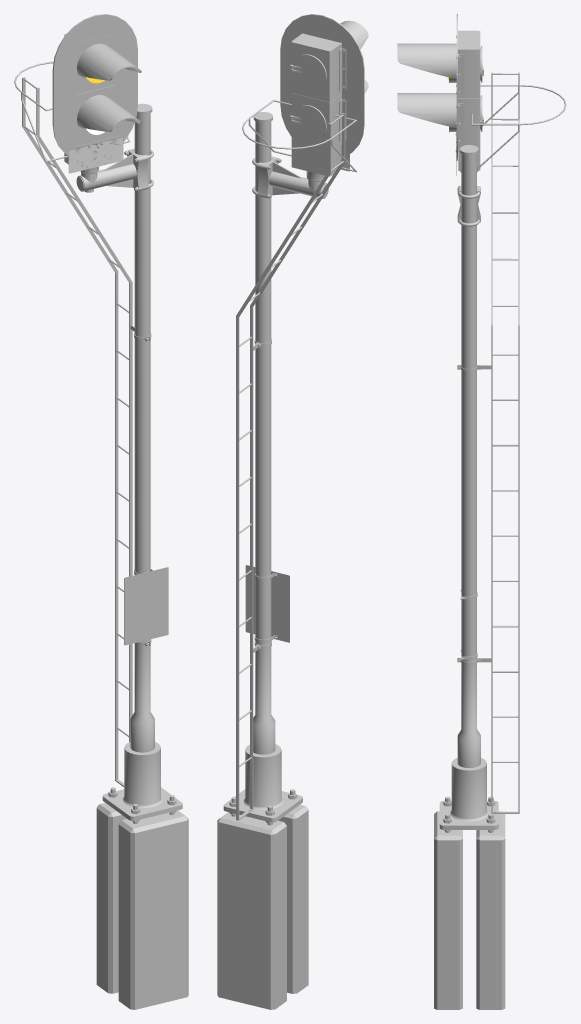
The model's file is PL2AspectDistant.fbx.
3 renders of one model, left to right at view 1: azimuth 30°, elevation 25°; view 2: azimuth 150°, elevation 25°; view 3: azimuth 270°, elevation 25°, orthographic. The views are drawn at different scales.
Visible parts, largest first — view 1: PL2AspectDistant, LocationSign; view 2: PL2AspectDistant; view 3: PL2AspectDistant.
Part boxes in pixels (x1,y1,x2,y2): PL2AspectDistant: [14, 14, 188, 1009]; LocationSign: [68, 137, 123, 173]; PL2AspectDistant: [217, 14, 368, 1009]; PL2AspectDistant: [397, 14, 566, 1009].
Size of the model in its own units: 88.91 by 674 by 108.
